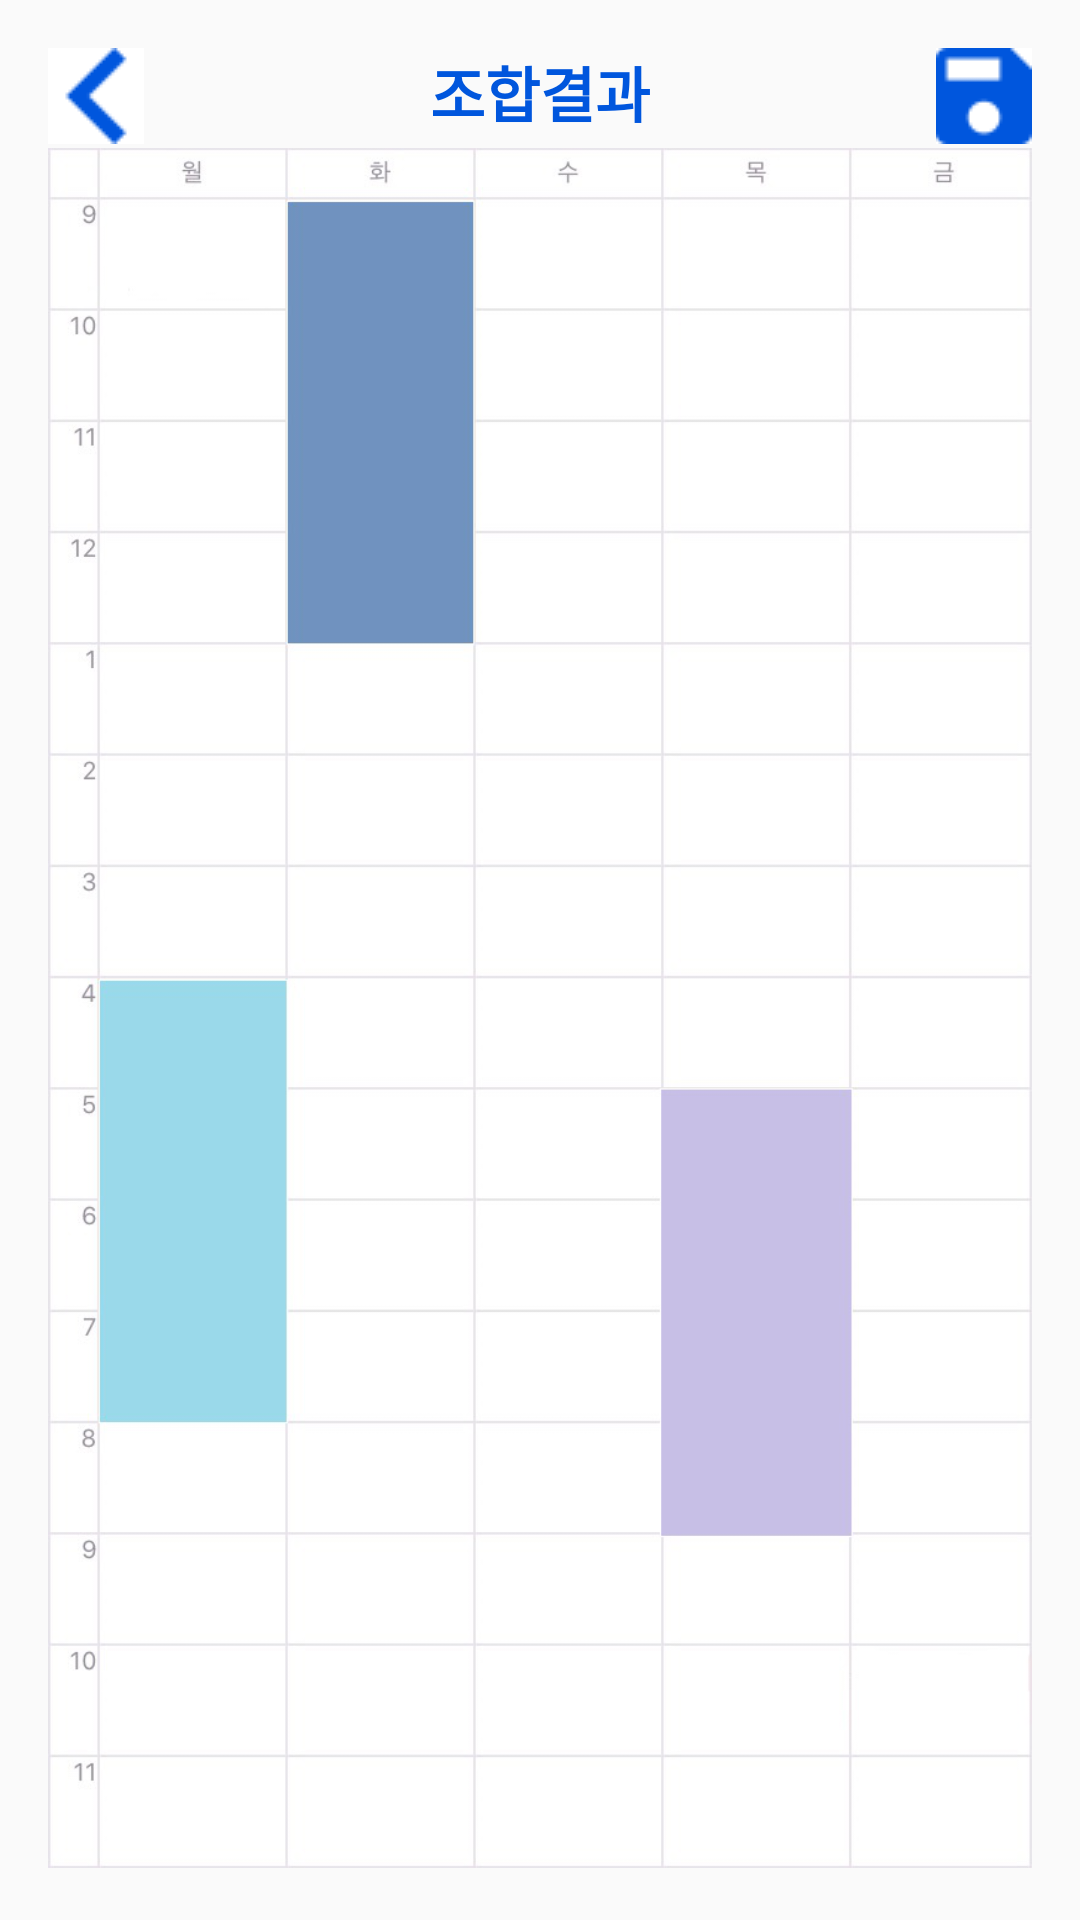

Icons on this 1080 x 1920 Android screen, each with the point to tap as point (x, y):
back: point (96, 96)
save: point (984, 96)
